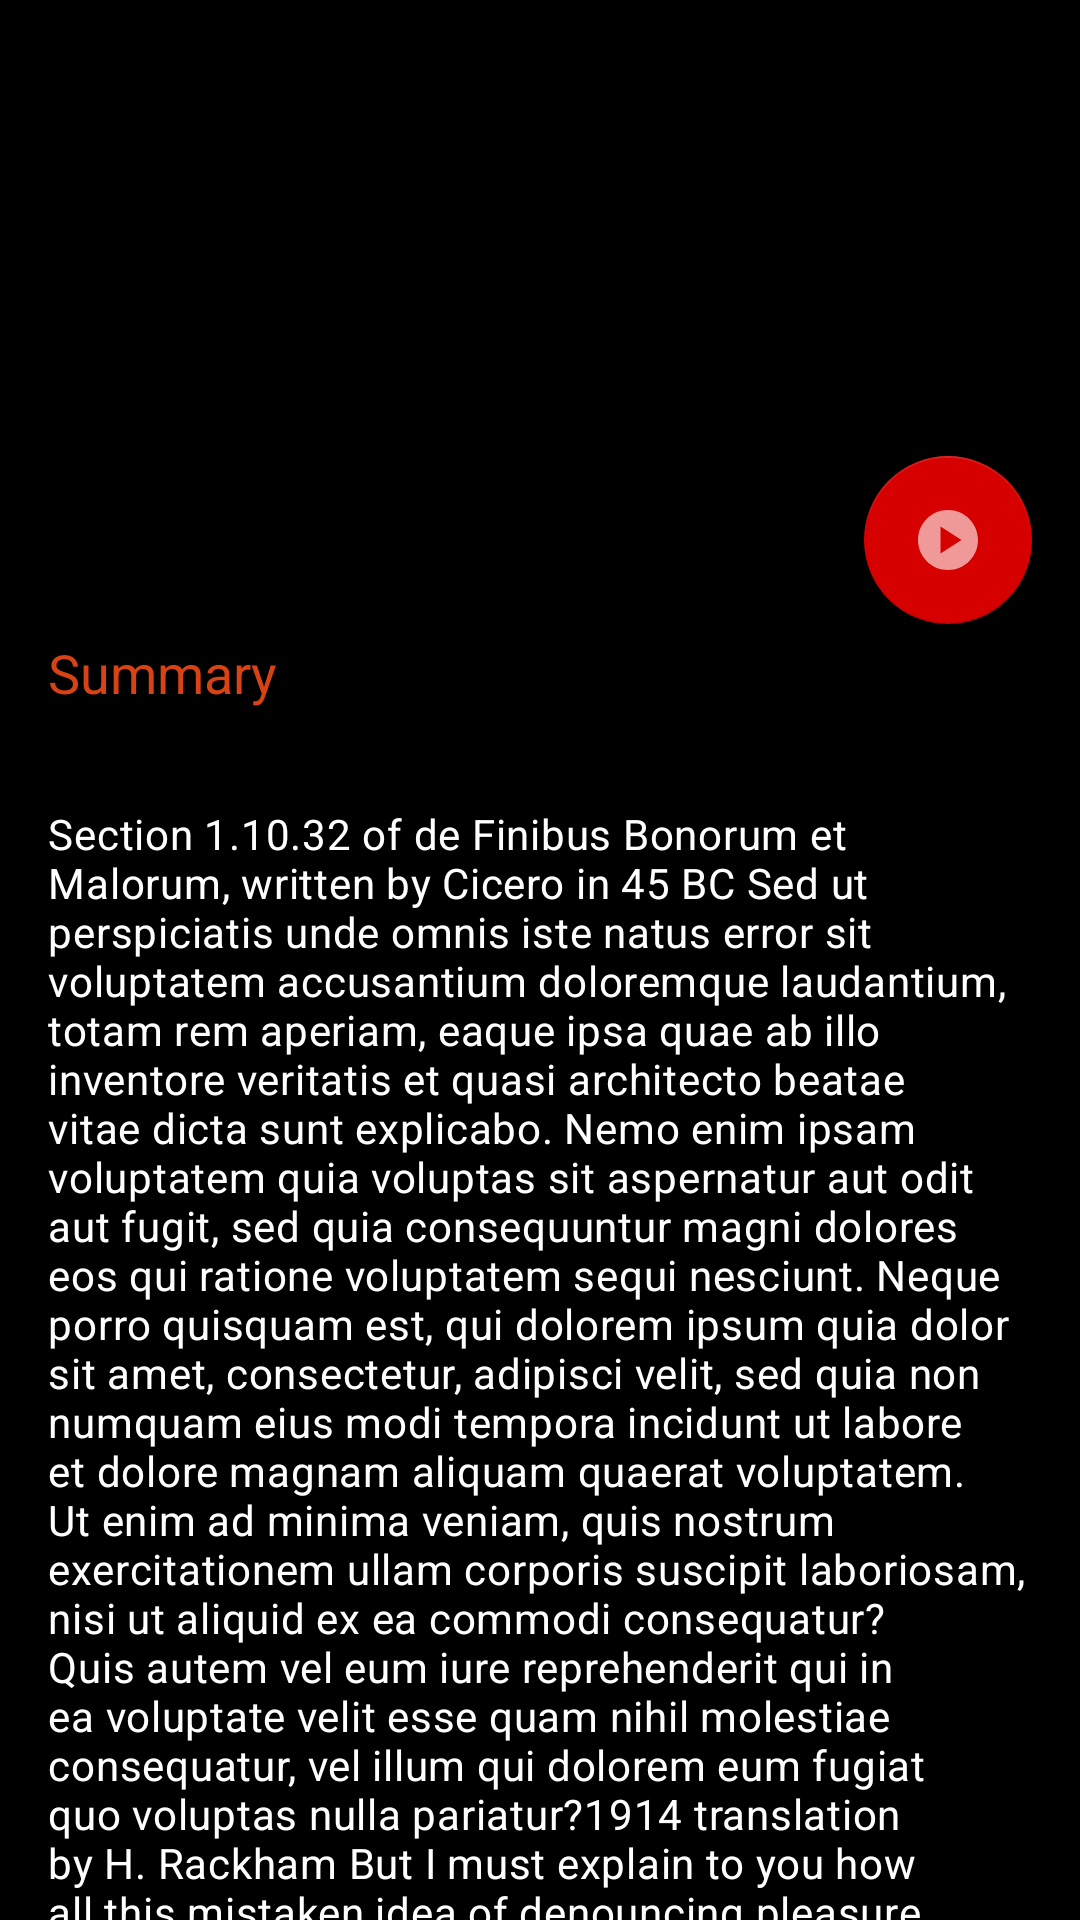

Locate icon controls on the screen. Image size 1080×1920, boxes as (left=x1, top=y1, right=x2, bottom=y2).
play: (left=864, top=456, right=1032, bottom=624)
